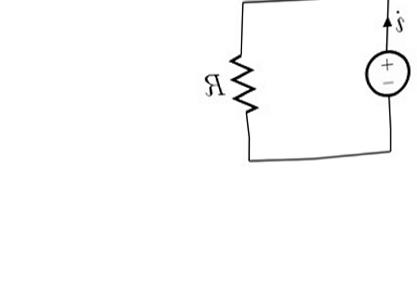Battery: (352, 41, 413, 107)
